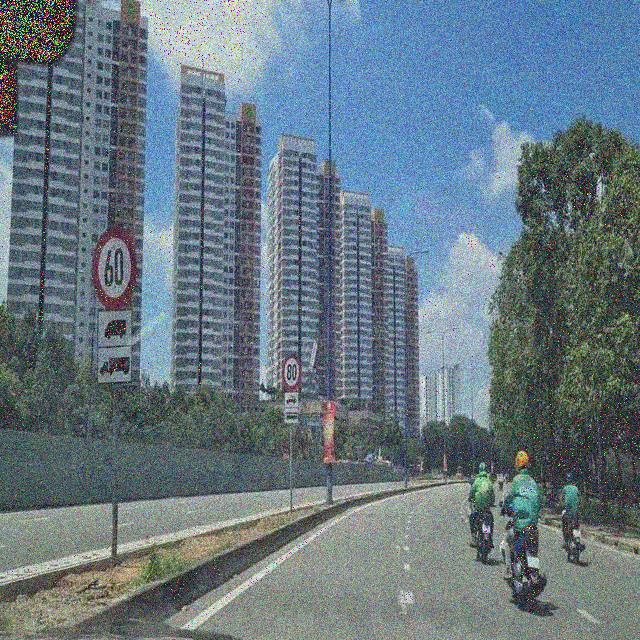Biển phụ: (95, 306, 133, 386), (283, 390, 298, 423)
Giới hạn tốc độ: 60Km/h: (89, 221, 135, 308)
Giới hạn tốc độ: 80Km/h: (280, 350, 302, 390)
